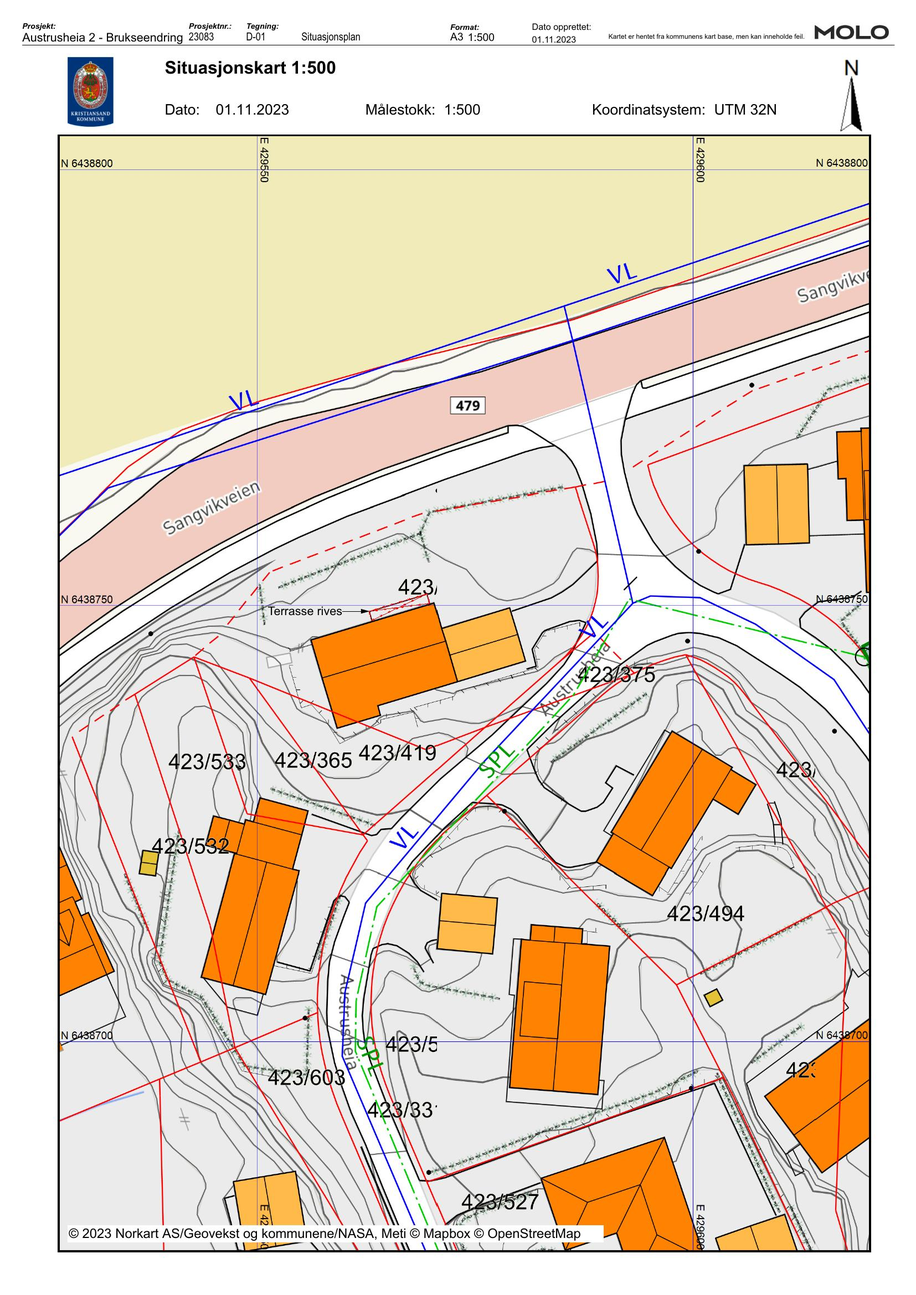situasjonskart: (58, 140, 871, 1253)
tekst: (164, 58, 337, 78), (359, 96, 488, 120), (448, 30, 498, 42)
